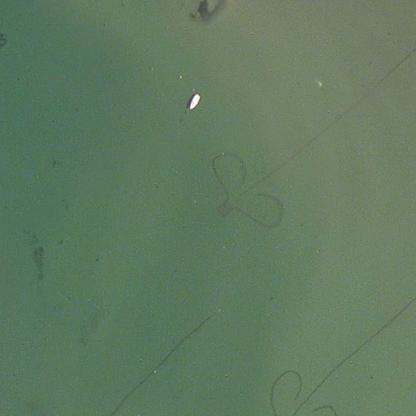ship: (183, 86, 205, 114)
